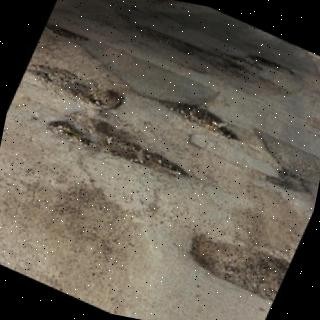pothole: (144, 26, 288, 95), (48, 111, 186, 178), (189, 230, 291, 303), (24, 62, 122, 110), (161, 99, 240, 142), (267, 170, 308, 197), (247, 54, 289, 74), (45, 23, 86, 41)
